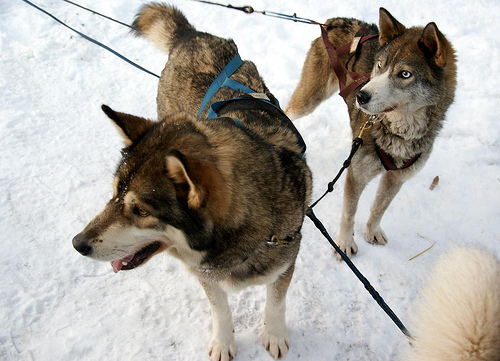dog: (73, 1, 319, 360), (283, 8, 458, 260)
